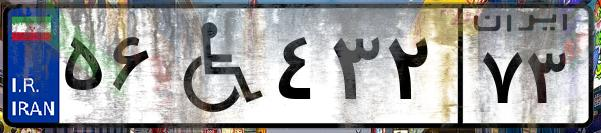2: (385, 28, 445, 110)
3: (330, 28, 385, 110), (525, 38, 570, 115)
4: (270, 28, 330, 110)
5: (57, 26, 110, 100)
6: (110, 28, 158, 98)
7: (475, 38, 525, 113)
ژ (معلولین و جانبازان): (158, 12, 270, 120)
